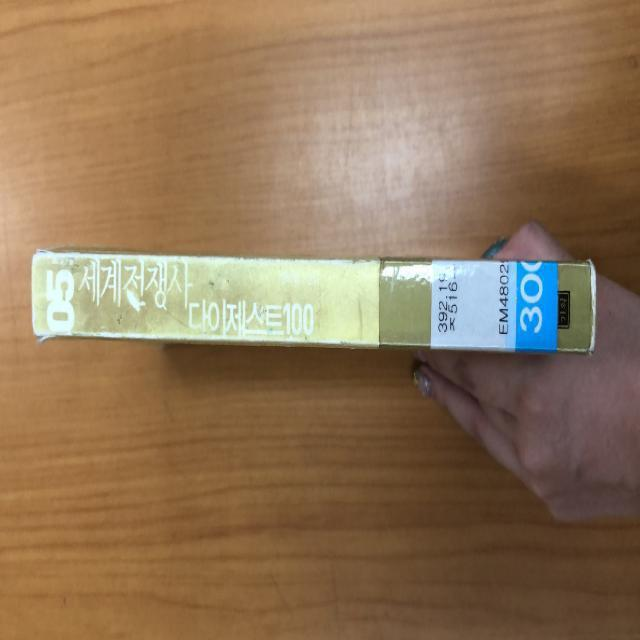Ripped: (30, 325, 101, 352), (31, 233, 82, 260)
Wornout: (334, 252, 380, 271), (338, 339, 361, 355)
